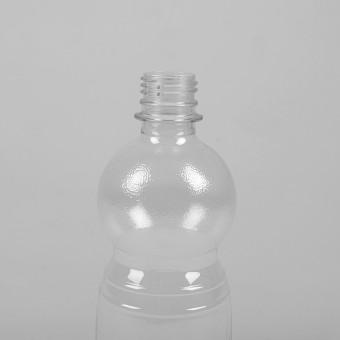plastic_bottle: (80, 64, 251, 340)
